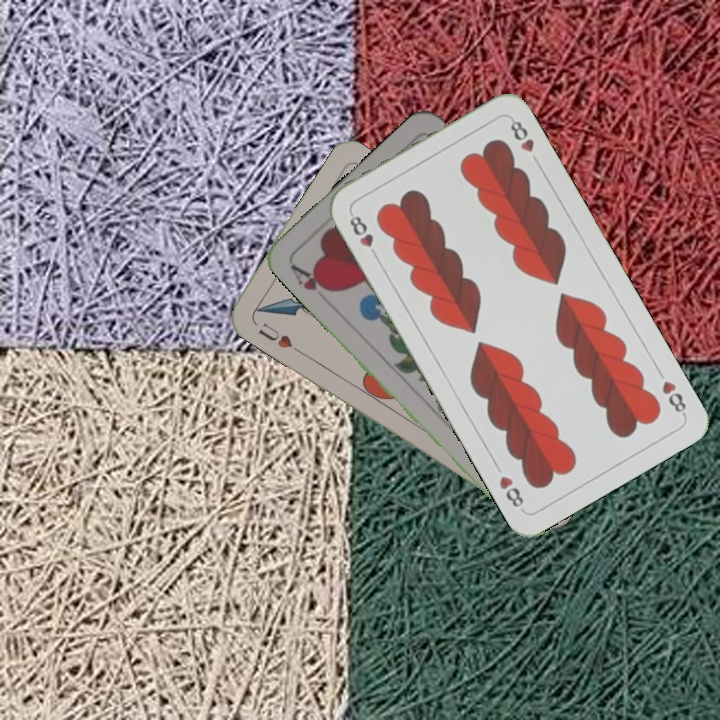H8: (345, 208, 382, 262), (658, 376, 689, 419)
HA: (286, 260, 335, 295)
HU: (254, 318, 295, 351)
